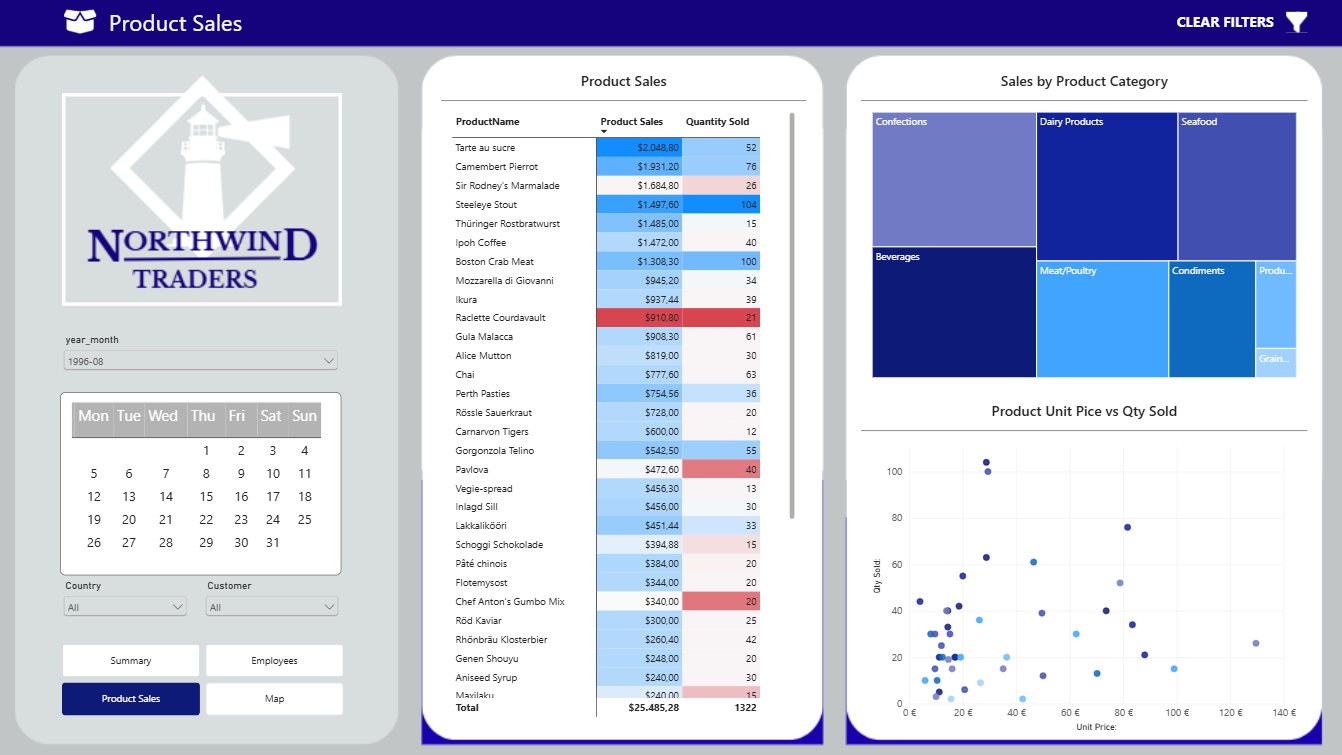

Layout of this report page (visuals, bound fields, positions):
{"tool":"powerbi","page":{"name":"Product Sales","canvas":[1920,1080],"ordinal":2},"visuals":[{"type":"image","box":[0,0,1920,1080],"z":0},{"type":"treemap","title":"Sales by Product Category","fields":{"Group":["Categories.CategoryName"],"Values":["Mesures.tot_revenue"]},"box":[1230,88,638,468],"z":1000},{"type":"pivotTable","title":"Product Sales","fields":{"Rows":["Products.ProductName"],"Values":["Mesures.tot_revenue","Sum(Order Details.Quantity)"]},"box":[630,88,522,952],"z":2000},{"type":"scatterChart","title":"Product Unit Pice vs Qty Sold","fields":{"Category":["Products.ProductName"],"Series":["Categories.CategoryName"],"X":["Sum(Order Details.UnitPrice)"],"Y":["Sum(Order Details.Quantity)"]},"box":[1230,560,638,502],"z":3000},{"type":"slicer","fields":{"Values":["Suppliers.CompanyName"]},"box":[288,830,200,82],"z":4000},{"type":"slicer","fields":{"Values":["Customers.Country"]},"box":[86,830,186,80],"z":5000},{"type":"pivotTable","fields":{"Columns":["calendar.day_name"],"Rows":["calendar.week_number"],"Values":["Min(calendar.day_number)"]},"box":[86,562,401.7,261.7],"z":6000},{"type":"slicer","fields":{"Values":["calendar.year_month"]},"box":[86,478,402,84],"z":7000},{"type":"pageNavigator","box":[88,922,402,102],"z":8000},{"type":"shape","box":[88,134,400,304],"z":9000},{"type":"image","box":[92,4,46,56],"z":10000},{"type":"textbox","box":[156,10,232,62],"z":11000},{"type":"actionButton","box":[1656,12,176,40],"z":11001},{"type":"actionButton","box":[1832,10,42,46],"z":11002}]}

Visuals, with their boxes in screenshot pixels (x1, y1, x2, y2), scaled from the page's 1920x1080 canvas onto the 1342x755 screenshot:
image: <box>0,0,1341,754</box>
"Sales by Product Category" treemap: <box>860,62,1306,389</box>
"Product Sales" pivotTable: <box>440,62,805,727</box>
"Product Unit Pice vs Qty Sold" scatterChart: <box>860,391,1306,742</box>
slicer - Suppliers.CompanyName: <box>201,580,341,638</box>
slicer - Customers.Country: <box>60,580,190,636</box>
pivotTable - calendar.day_name x calendar.week_number: <box>60,393,341,576</box>
slicer - calendar.year_month: <box>60,334,341,393</box>
pageNavigator: <box>62,645,342,716</box>
shape: <box>62,94,341,306</box>
image: <box>64,3,96,42</box>
textbox: <box>109,7,271,50</box>
actionButton: <box>1157,8,1280,36</box>
actionButton: <box>1280,7,1310,39</box>
